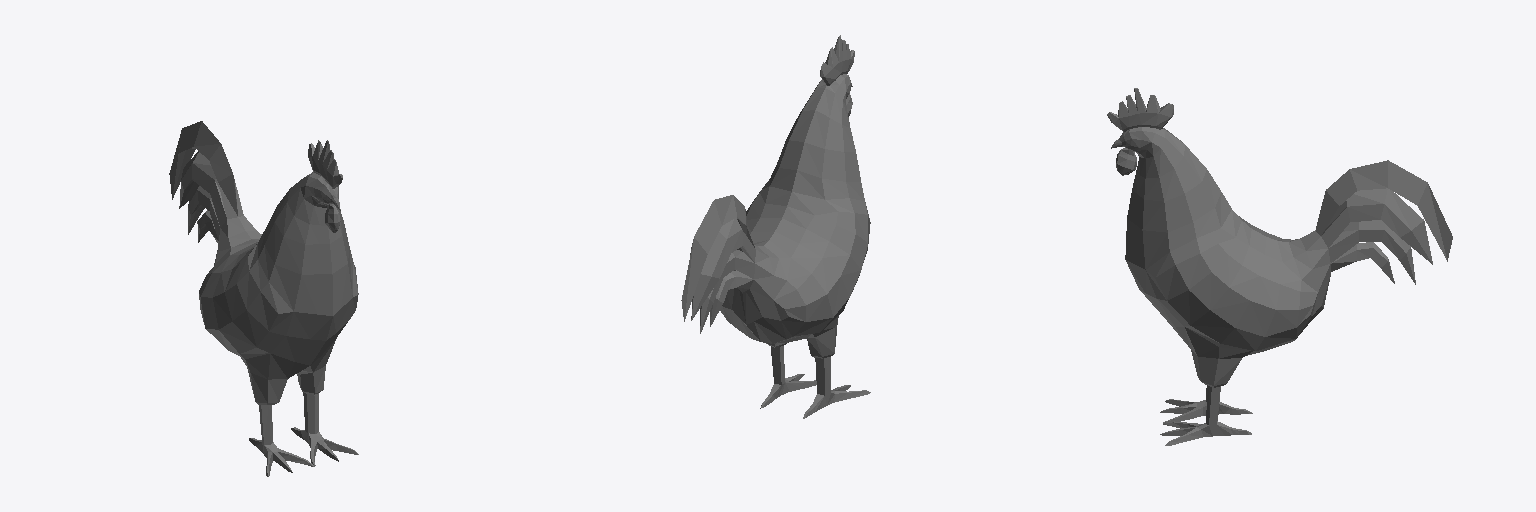
The model's file is Rooster.obj.
3 renders of one model, left to right at view 1: azimuth 30°, elevation 25°; view 2: azimuth 150°, elevation 25°; view 3: azimuth 270°, elevation 25°, orthographic.
Parts seen in each view (by area): view 1: Rooster(1); view 2: Rooster(1); view 3: Rooster(1).
Boxes of the visible parts, box(x1,y1,x2,y2) form: Rooster(1): box(169, 121, 358, 476); Rooster(1): box(681, 35, 870, 418); Rooster(1): box(1107, 88, 1452, 445).
Size of the model in its own units: 1.29 by 3.47 by 3.24.